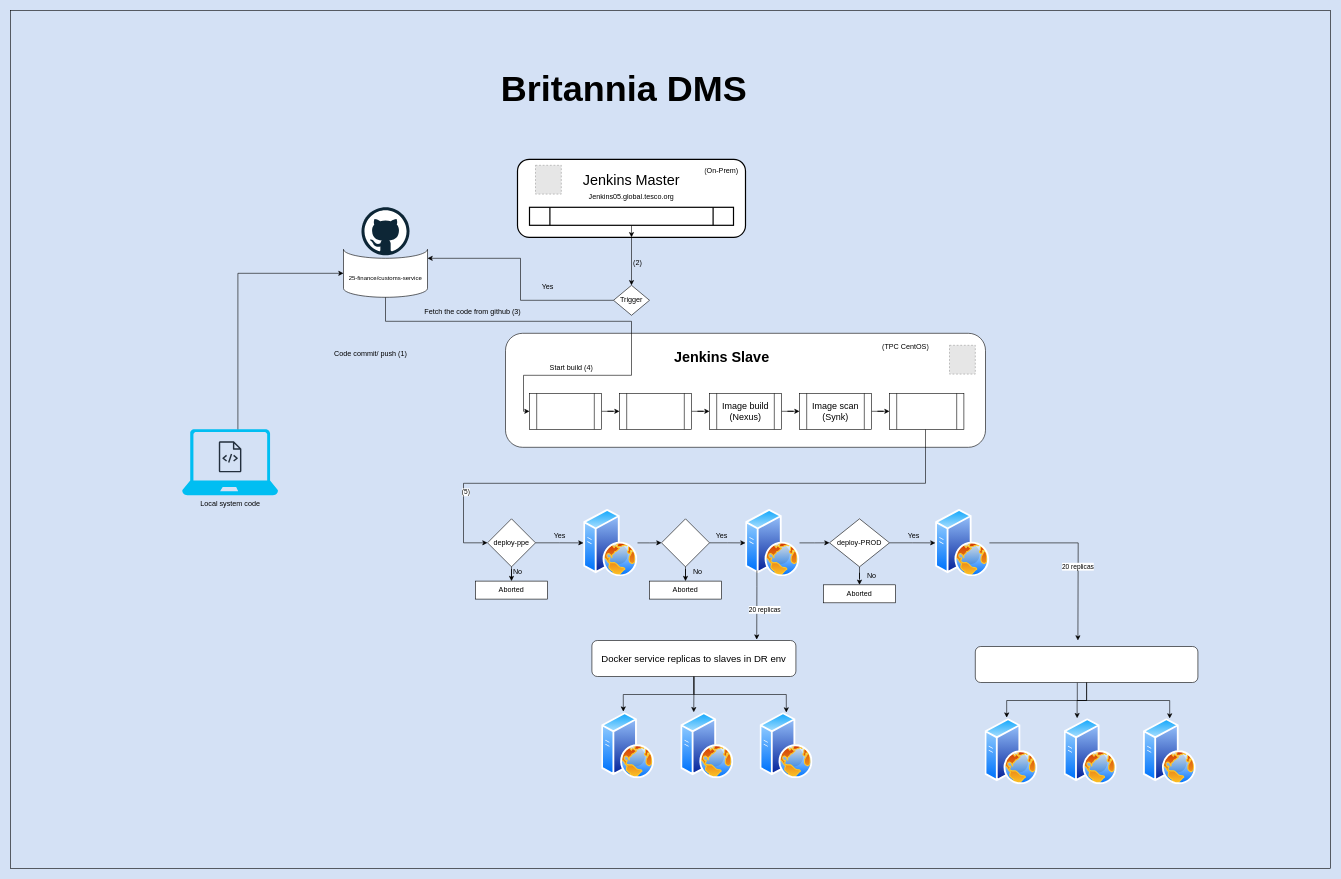
This 1341x879 diagram has some shape labels left out. Grey dashed boxes stand in for pictures. Here are the shapes that lost their labels. From the top down, the box of each, then its label:
(529, 206, 734, 226): 25-stock-finance/goods-moment-service
(529, 393, 602, 429): Application build
(619, 393, 692, 429): Security scan
(889, 393, 964, 429): Image publish (Nexus)
(661, 518, 710, 567): deploy-DR
(975, 646, 1198, 682): Docker service replicas to slaves in PROD env
